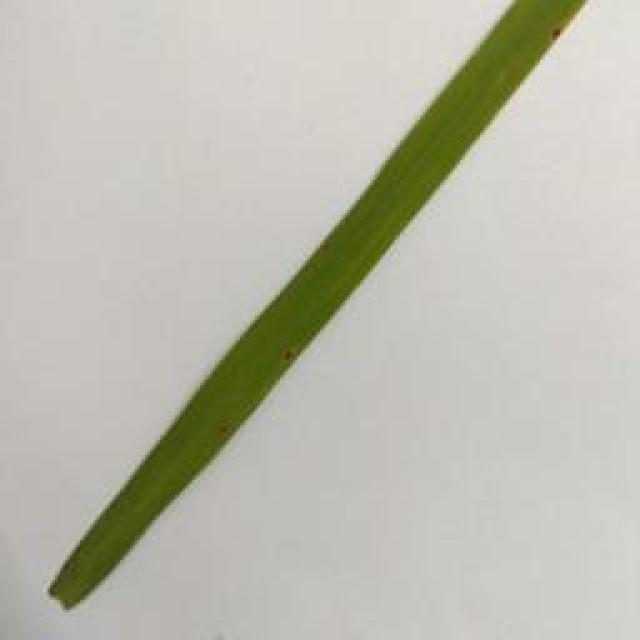Brown_Spot: (543, 21, 576, 51), (212, 416, 234, 456), (279, 341, 301, 376), (317, 226, 336, 265)
